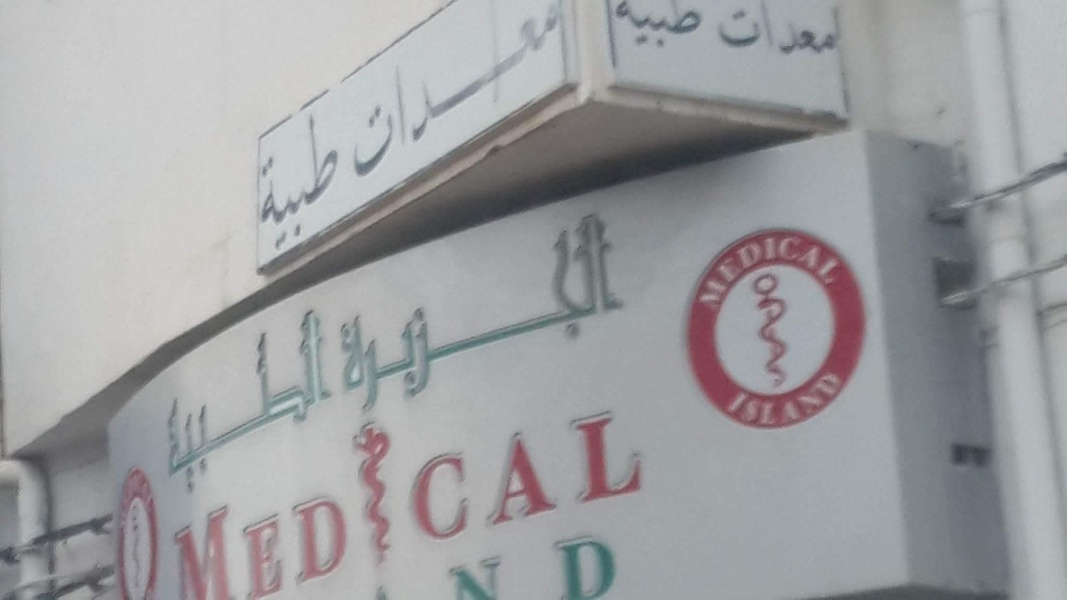text: (337, 206, 352, 422), (353, 206, 368, 422), (369, 206, 384, 422), (385, 206, 400, 422), (401, 206, 416, 422), (417, 206, 432, 422), (433, 206, 448, 422), (449, 206, 464, 422), (465, 206, 480, 422), (481, 206, 496, 422), (497, 206, 512, 422), (513, 206, 528, 422), (529, 206, 544, 422), (545, 206, 560, 422), (561, 206, 576, 422), (577, 206, 592, 422), (593, 206, 608, 422), (609, 206, 624, 422), (161, 300, 176, 505), (177, 300, 192, 505), (193, 300, 208, 505), (209, 300, 224, 505), (225, 300, 240, 505), (241, 300, 256, 505), (257, 300, 272, 505), (273, 300, 288, 505), (289, 300, 304, 505), (305, 300, 320, 505), (321, 300, 336, 505), (337, 1, 352, 192), (353, 1, 368, 192), (369, 1, 384, 192), (385, 1, 400, 192), (401, 1, 416, 192), (417, 1, 432, 192), (433, 1, 448, 192), (449, 1, 464, 192), (465, 1, 480, 192), (481, 1, 496, 192), (497, 1, 512, 192), (513, 1, 528, 192), (529, 1, 544, 192), (545, 1, 560, 192), (257, 98, 272, 270), (273, 98, 288, 270), (289, 98, 304, 270), (305, 98, 320, 270), (321, 98, 336, 270), (337, 98, 352, 270), (417, 394, 432, 547), (433, 394, 448, 547), (449, 394, 464, 547), (465, 394, 480, 547), (481, 394, 496, 547), (497, 394, 512, 547), (513, 394, 528, 547), (529, 394, 544, 547), (545, 394, 560, 547), (561, 394, 576, 547), (577, 394, 592, 547), (593, 394, 608, 547), (609, 394, 624, 547), (625, 394, 640, 547), (149, 300, 160, 505), (177, 465, 192, 599), (193, 465, 208, 599), (209, 465, 224, 599), (225, 465, 240, 599), (241, 465, 256, 599), (257, 465, 272, 599), (273, 465, 288, 599), (289, 465, 304, 599), (305, 465, 320, 599), (321, 465, 336, 599), (337, 465, 352, 599), (689, 210, 704, 330), (705, 210, 720, 330), (721, 210, 736, 330), (737, 210, 752, 330), (753, 210, 768, 330), (769, 210, 784, 330), (785, 210, 800, 330), (801, 210, 816, 330), (817, 210, 832, 330), (833, 210, 848, 330), (561, 1, 570, 192), (674, 210, 688, 330), (164, 465, 176, 599), (625, 206, 631, 422), (113, 455, 128, 540), (129, 455, 144, 540), (145, 455, 160, 540), (641, 394, 649, 547), (545, 525, 560, 598), (561, 525, 576, 598), (577, 525, 592, 598), (593, 525, 608, 598), (737, 368, 752, 434), (753, 368, 768, 434), (769, 368, 784, 434), (785, 368, 800, 434), (801, 368, 816, 434), (817, 368, 832, 434), (833, 368, 848, 434), (721, 2, 736, 66), (737, 2, 752, 66), (753, 2, 768, 66), (769, 2, 784, 66), (785, 2, 800, 66), (801, 2, 816, 66), (817, 2, 832, 66), (609, 525, 622, 598), (353, 465, 360, 599), (410, 394, 416, 547), (625, 1, 640, 54), (641, 1, 656, 54), (657, 1, 672, 54), (673, 1, 688, 54), (689, 1, 704, 54), (849, 368, 861, 434), (449, 549, 464, 599), (465, 549, 480, 599), (481, 549, 496, 599), (333, 206, 336, 422), (614, 1, 624, 54), (833, 2, 841, 66), (497, 549, 505, 599), (334, 1, 336, 192), (849, 210, 852, 330), (353, 98, 355, 270), (705, 1, 711, 54), (109, 455, 112, 540), (337, 300, 338, 505), (445, 549, 448, 599), (718, 2, 720, 66)
